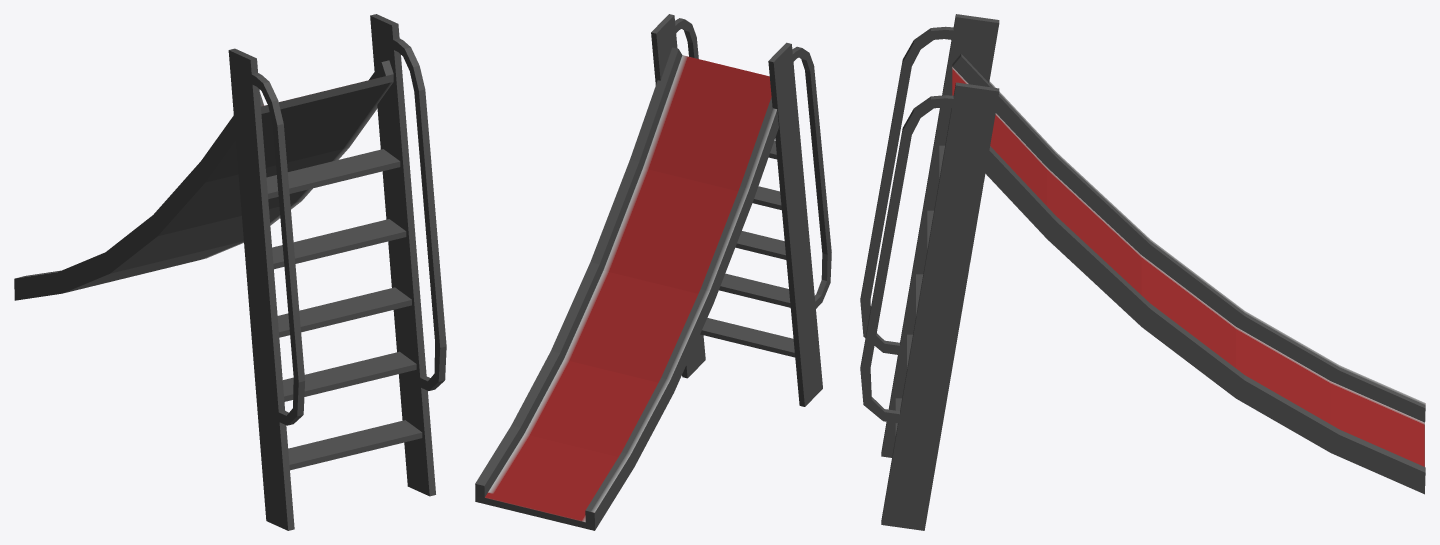
Rendered from slides.fbx.
3 renders of one model, left to right at view 1: azimuth 30°, elevation 25°; view 2: azimuth 150°, elevation 25°; view 3: azimuth 270°, elevation 25°, orthographic. The views are drawn at different scales.
Visible parts, largest first — view 1: Cube.006; view 2: Cube.006; view 3: Cube.006.
Part boxes in pixels (left/top/right/bottom): Cube.006: left=14, top=14, right=446, bottom=530; Cube.006: left=475, top=14, right=831, bottom=530; Cube.006: left=860, top=14, right=1425, bottom=530.
Size of the model in its own units: 70.51 by 205 by 235.
